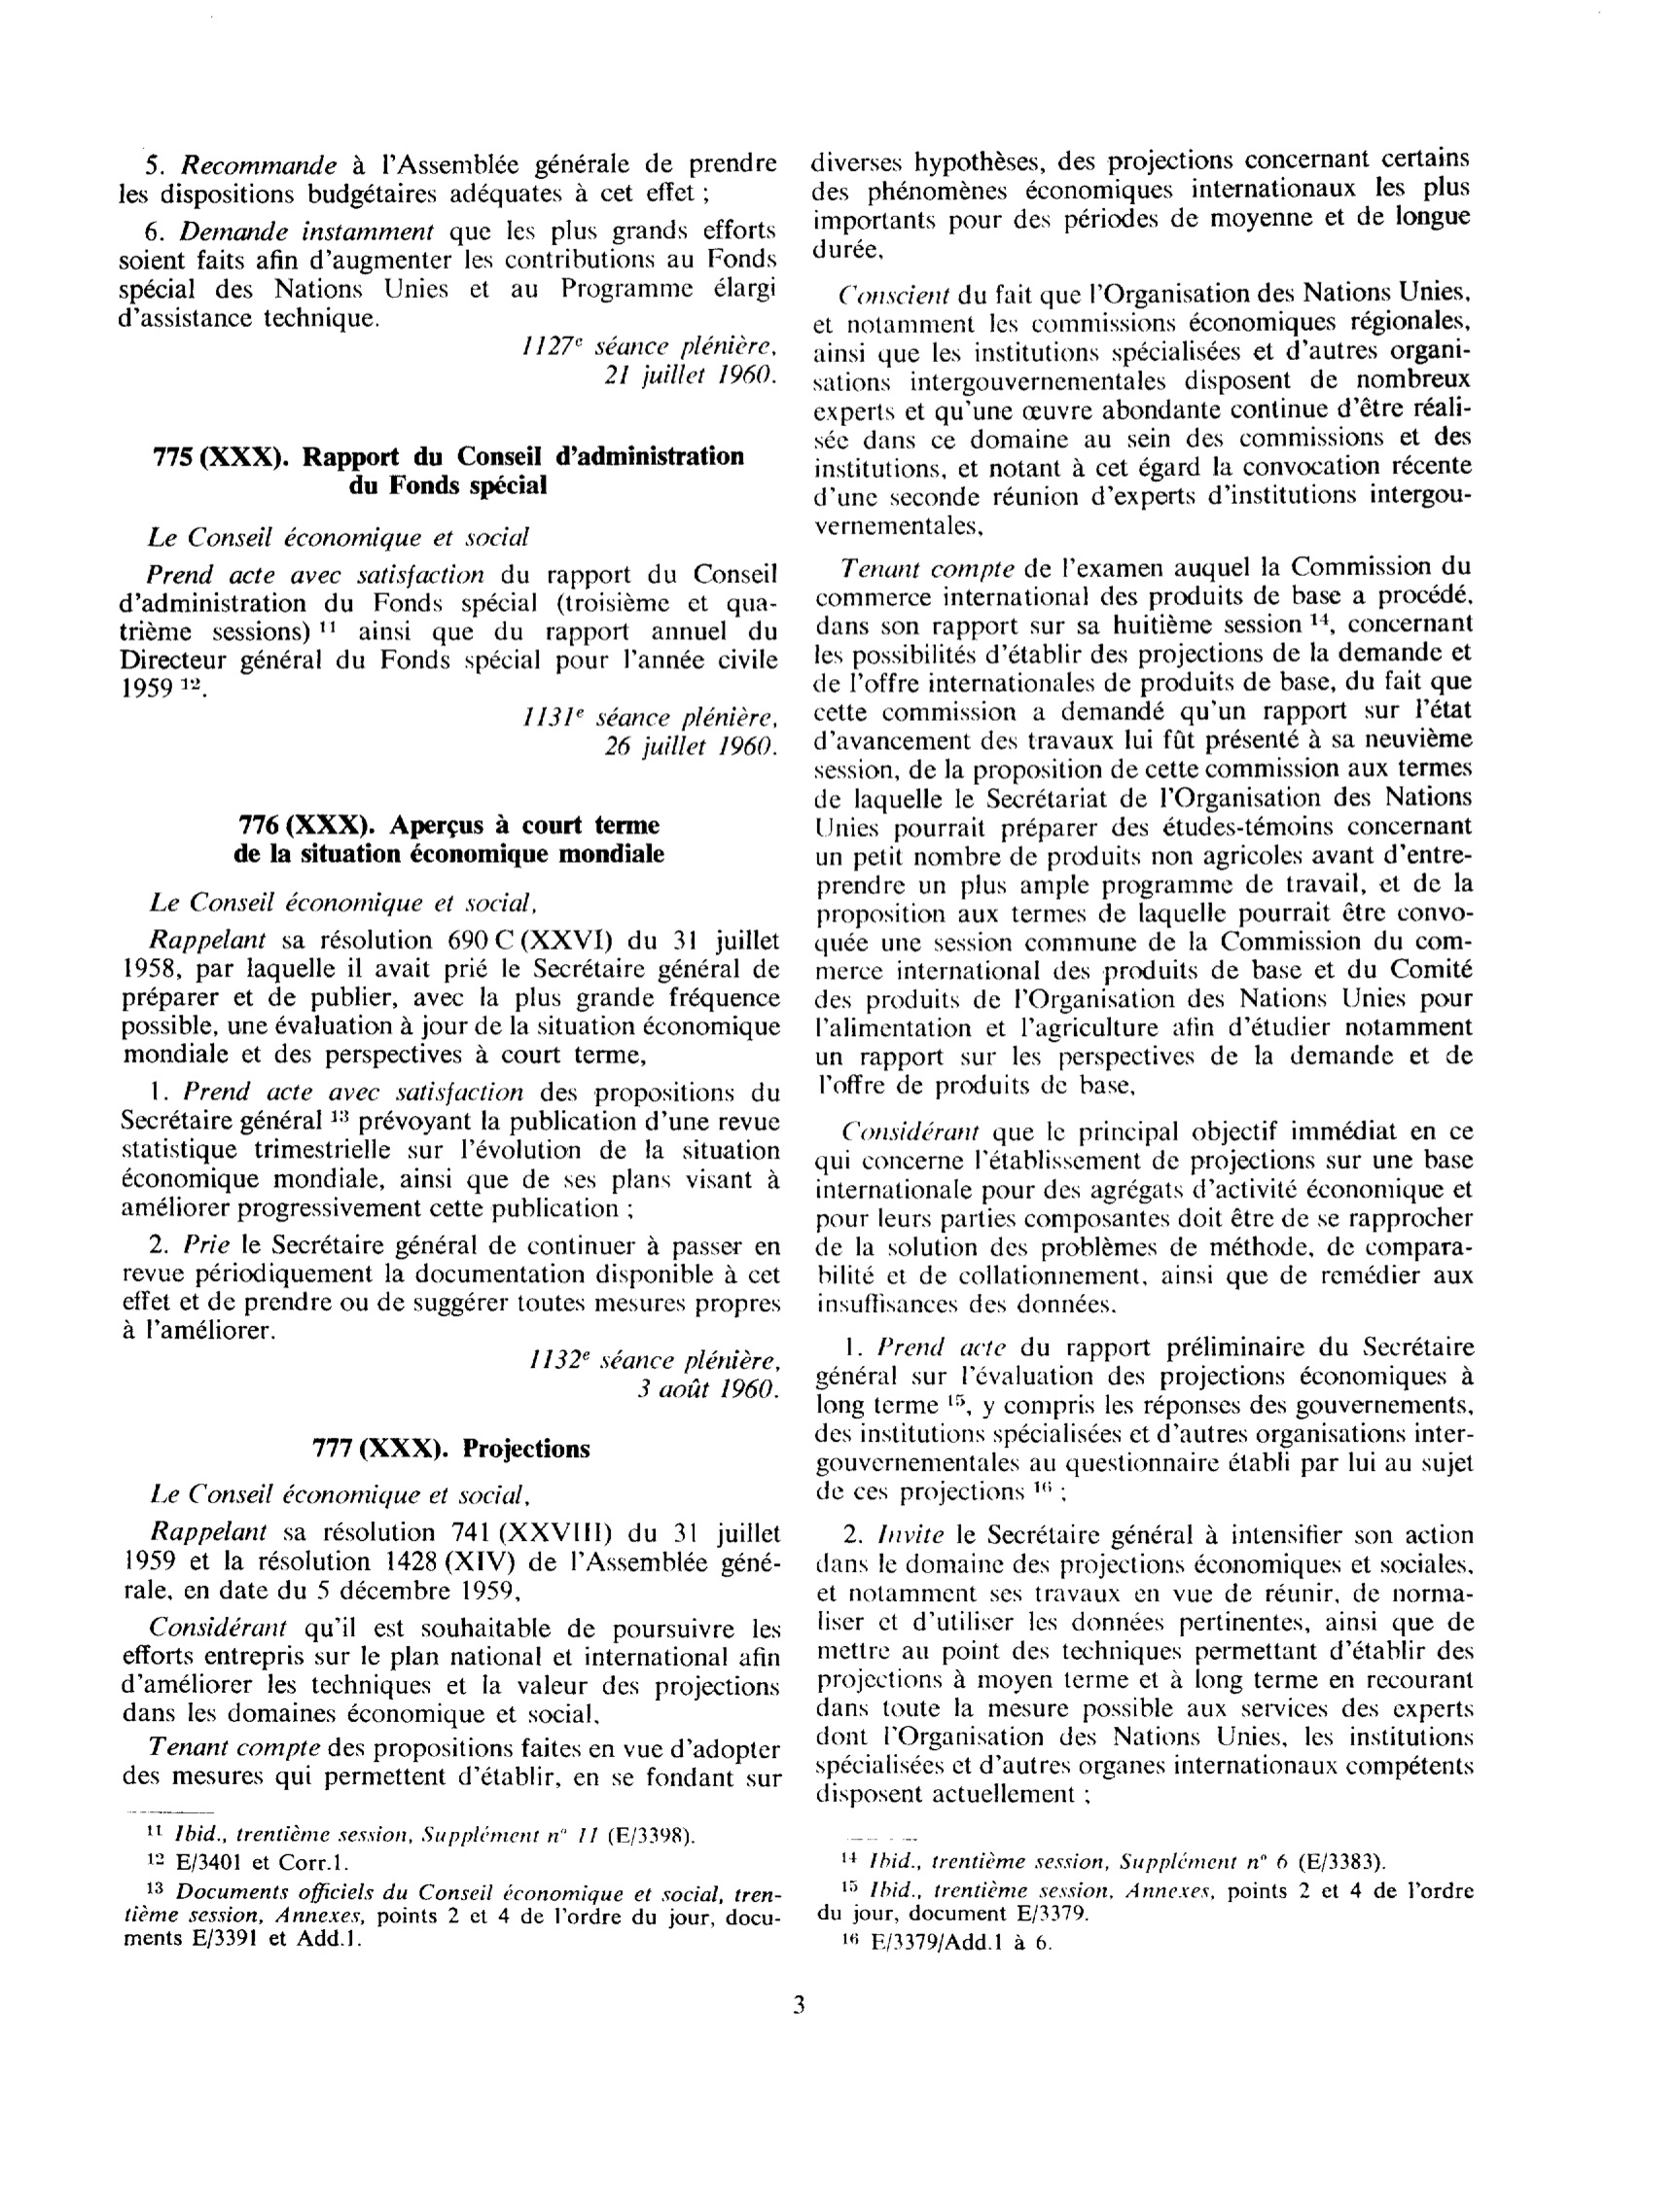MainZone-Continued: (805, 144, 1480, 269)
MainZone-Date: (593, 367, 789, 392), (597, 733, 782, 758), (638, 1379, 783, 1408)
MainZone-Head: (132, 435, 753, 505), (223, 803, 670, 873), (304, 1422, 602, 1468)
MainZone-ListItem: (811, 1518, 1483, 1813), (810, 1331, 1483, 1508), (113, 1075, 788, 1224), (109, 213, 785, 336), (113, 1228, 790, 1348), (110, 144, 784, 212)
MainZone-P: (809, 551, 1483, 1103), (807, 276, 1480, 543), (810, 1113, 1483, 1320), (115, 923, 788, 1071), (111, 558, 784, 705), (115, 1610, 788, 1731), (116, 1515, 790, 1608), (115, 1732, 788, 1800), (114, 517, 543, 554), (141, 882, 548, 919), (127, 1477, 548, 1512)
MainZone-Signature: (518, 1343, 790, 1376), (507, 329, 785, 360), (514, 698, 790, 727)
MarginTextZone-Notes: (115, 1877, 788, 1964), (810, 1875, 1482, 1926), (807, 1843, 1486, 1878), (121, 1815, 710, 1848), (122, 1846, 367, 1876), (831, 1927, 1056, 1953)
TitlePageZone: (787, 1989, 811, 2024)
